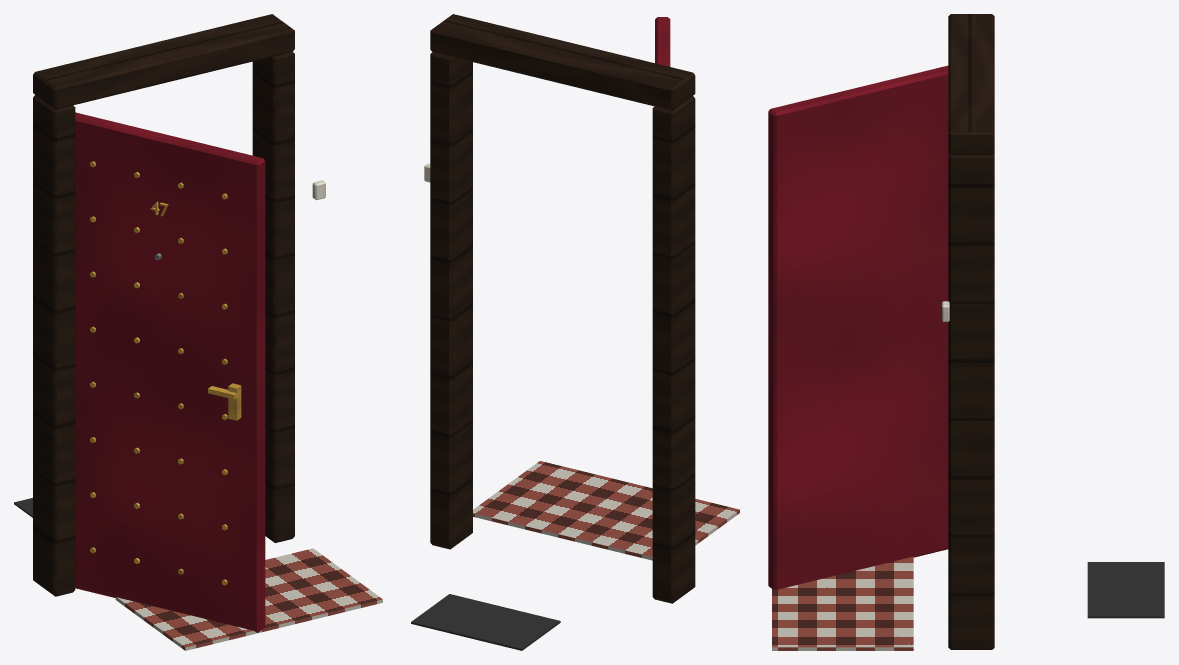
Rendered from apartment_door.glb.
3 renders of one model, left to right at view 1: azimuth 30°, elevation 25°; view 2: azimuth 150°, elevation 25°; view 3: azimuth 270°, elevation 25°, orthographic.
Visible parts, largest first — view 1: apartment_door; view 2: apartment_door; view 3: apartment_door.
Boxes of the visible parts, box(x1,y1,x2,y2) form: apartment_door: box(14, 14, 382, 650); apartment_door: box(411, 14, 739, 650); apartment_door: box(768, 14, 1164, 650).
Size of what is drawn, in the model's own units: 1.22 by 2.22 by 1.54.
Materials: 7 (6 with a texture image).
